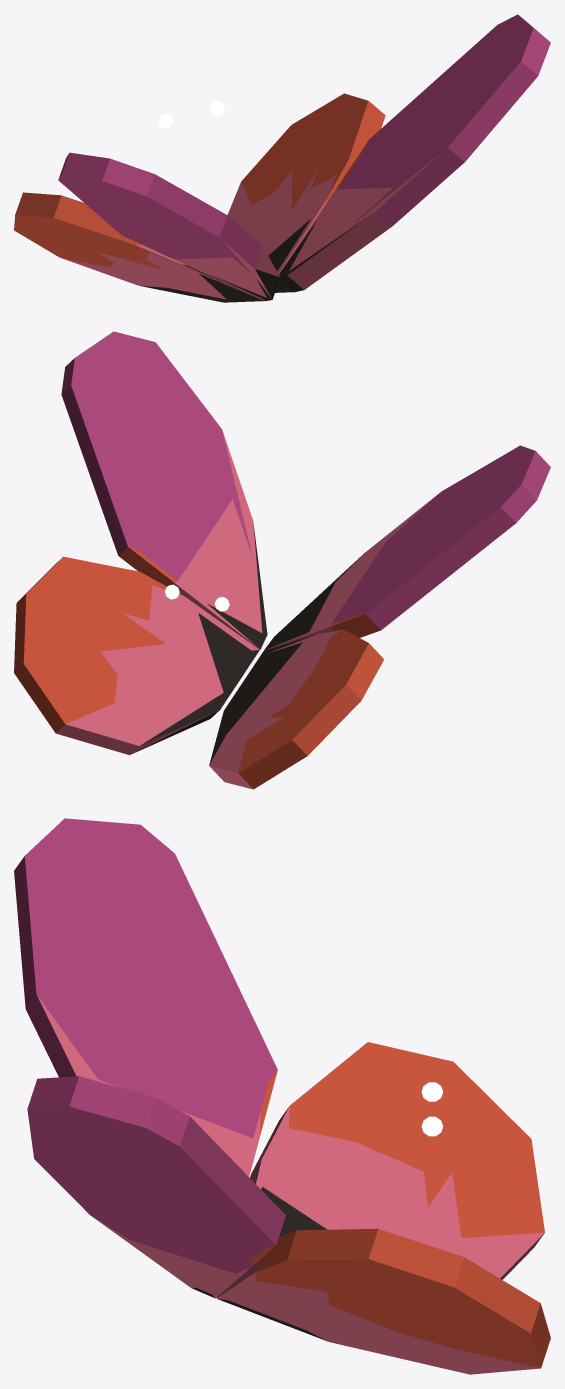
File: Butterfly.glb
The picture shows the model from 3 angles, top to bottom: view 1: azimuth 30°, elevation 25°; view 2: azimuth 150°, elevation 25°; view 3: azimuth 270°, elevation 25°; orthographic projection. The views are drawn at different scales.
Visible parts, largest first — view 1: Body, Glow; view 2: Body; view 3: Body, Glow.
Boxes of the visible parts, <box> form: Body: <box>14,14,550,302</box>; Glow: <box>158,101,224,128</box>; Body: <box>14,331,550,789</box>; Body: <box>14,818,550,1374</box>; Glow: <box>421,1082,443,1136</box>.
Bounding box in the file's own units: 2.8 × 1.67 × 1.97.
